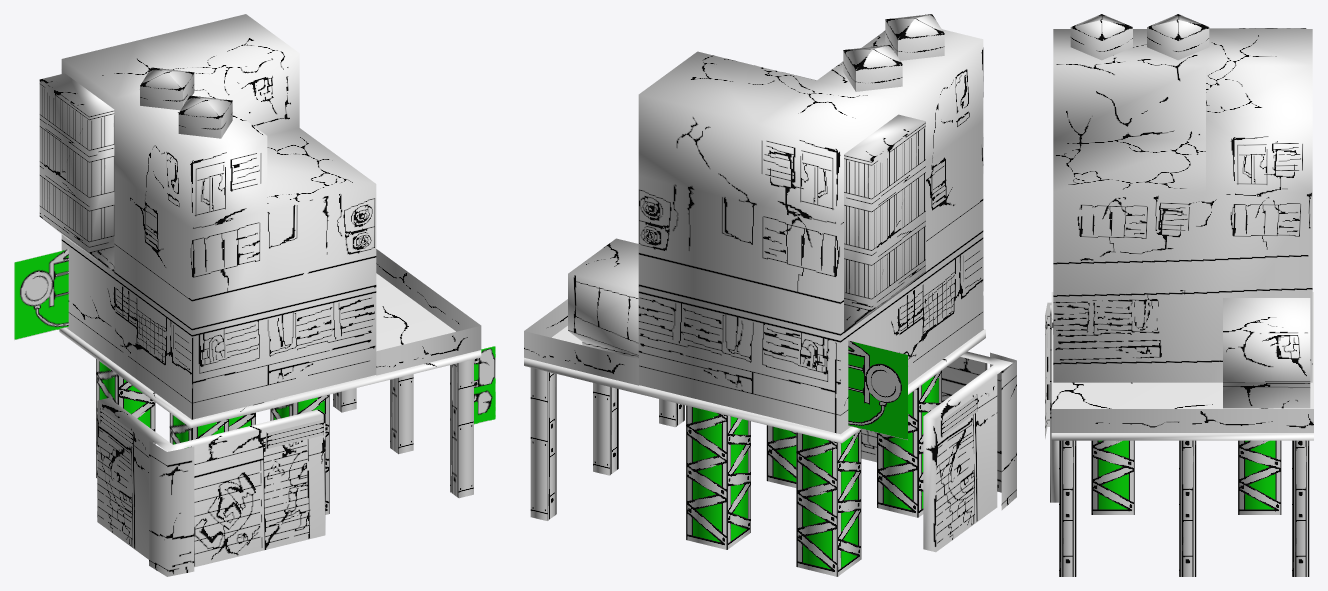
Rendered from Building_05.fbx.
3 renders of one model, left to right at view 1: azimuth 30°, elevation 25°; view 2: azimuth 150°, elevation 25°; view 3: azimuth 270°, elevation 25°, orthographic. The views are drawn at different scales.
Parts seen in each view (by area): view 1: Building_05; view 2: Building_05; view 3: Building_05.
Boxes of the visible parts, box(x1,y1,x2,y2) form: Building_05: box(14, 14, 495, 576); Building_05: box(524, 14, 1016, 576); Building_05: box(1045, 14, 1313, 576).
Bounding box in the file's own units: 48.54 × 56.08 × 31.12.
